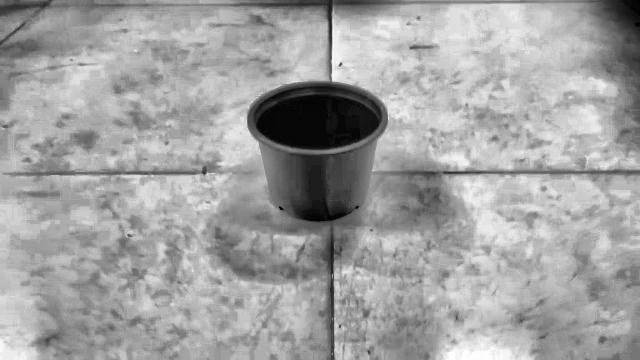pot: (247, 82, 388, 221)
